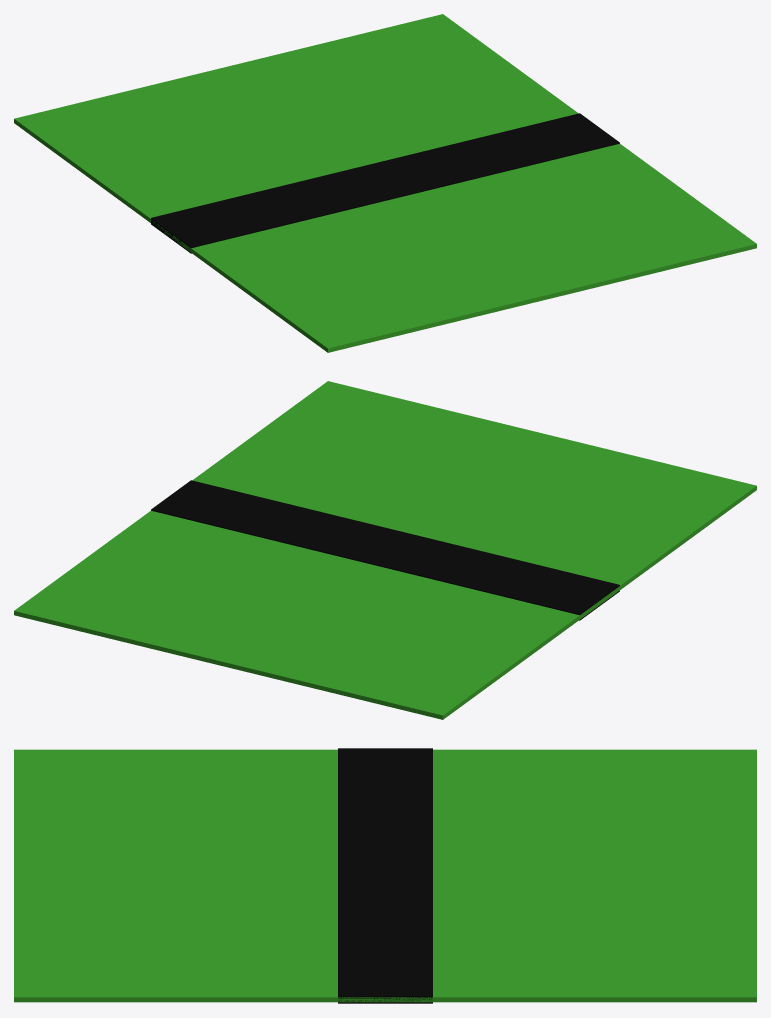
Rendered from BaseForProjobj.obj.
3 views of the same model, one above another, from view 1: azimuth 30°, elevation 25°; view 2: azimuth 150°, elevation 25°; view 3: azimuth 270°, elevation 25° (orthographic). The views are drawn at different scales.
Visible parts, largest first — view 1: Cube_Cube.001, Cube.001_Cube.002; view 2: Cube_Cube.001, Cube.001_Cube.002; view 3: Cube_Cube.001, Cube.001_Cube.002.
Part boxes in pixels (x1,y1,x2,y2): Cube_Cube.001: [14, 14, 756, 352]; Cube.001_Cube.002: [151, 113, 619, 253]; Cube_Cube.001: [14, 381, 756, 719]; Cube.001_Cube.002: [151, 480, 619, 620]; Cube_Cube.001: [14, 749, 756, 1002]; Cube.001_Cube.002: [338, 748, 432, 1003].
Bounding box in the file's own units: 21.85 × 0.3137 × 27.7.
